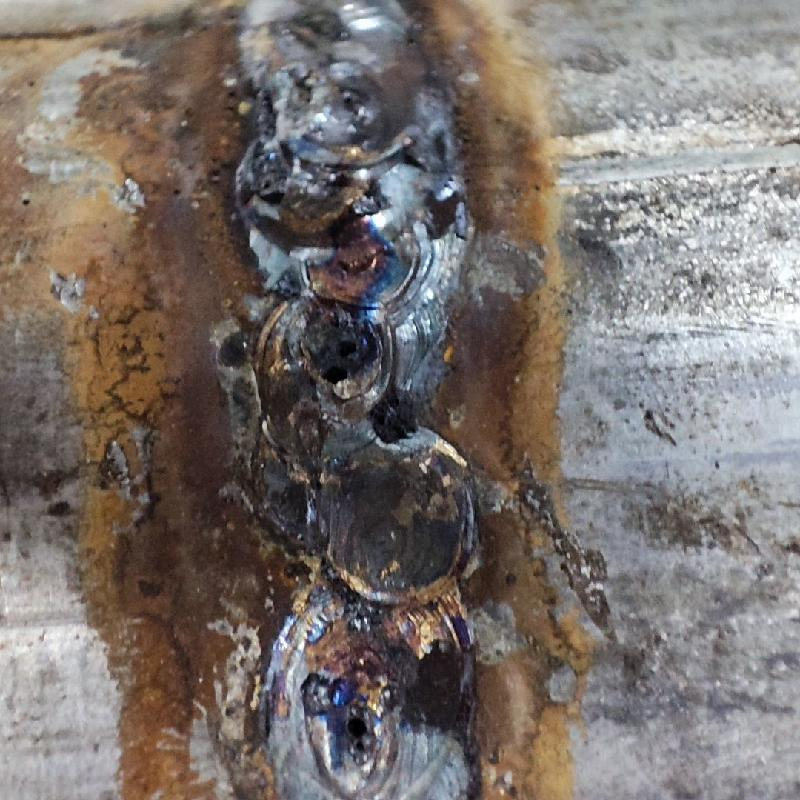Surface_pores: (310, 335, 378, 395), (333, 699, 388, 751), (323, 75, 374, 124)
crater: (233, 2, 491, 767)
